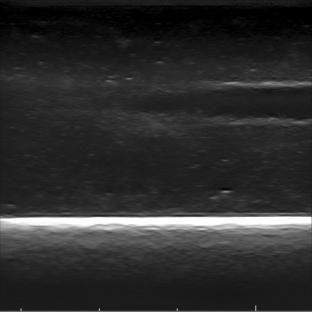vessel: (190, 79, 311, 130)
